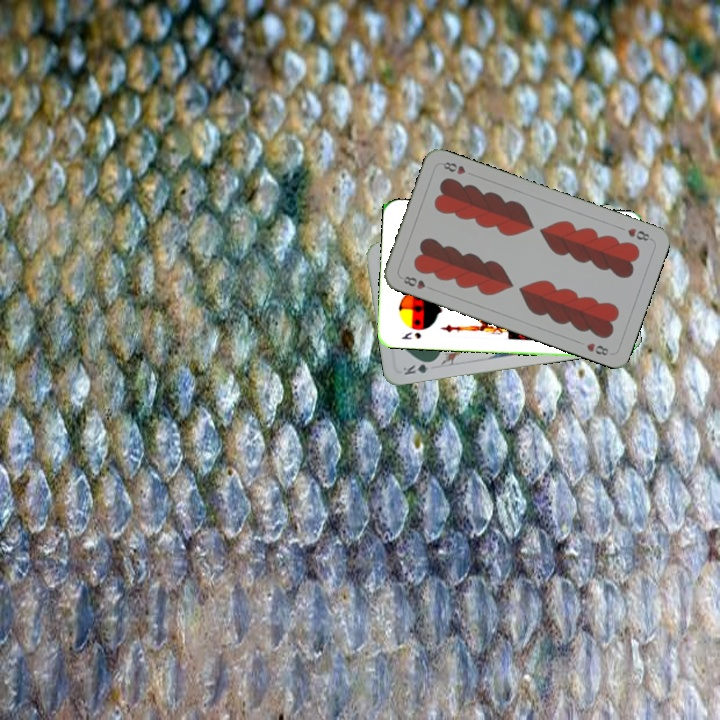GK: (399, 357, 437, 377)
H8: (399, 272, 436, 293), (623, 224, 655, 244)
SK: (397, 328, 424, 342)
